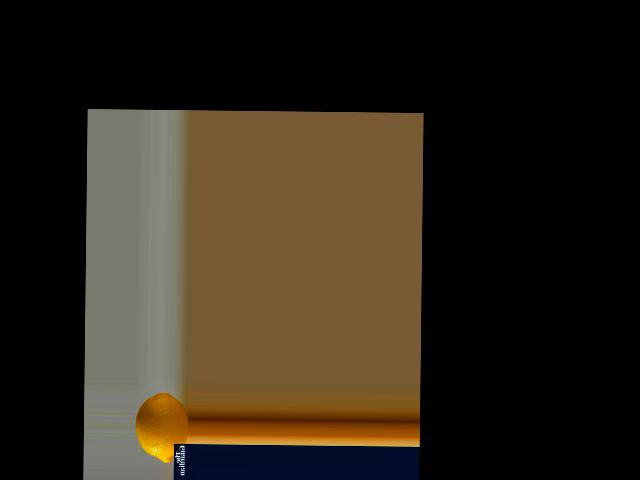lemon: (134, 386, 189, 465)
